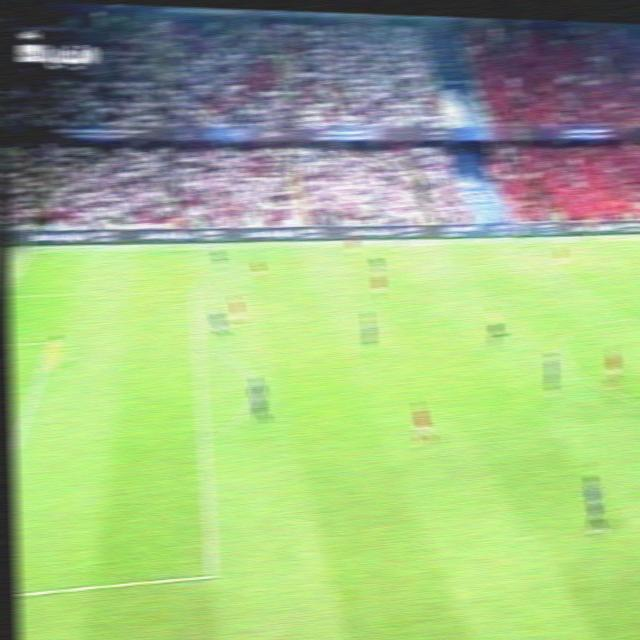bigarea_bottom_inner: (206, 565, 219, 579)
bigarea_top_inner: (189, 285, 201, 296)
bigarea_top_outter: (7, 288, 16, 304)
bottom_arc_area_intersection: (200, 431, 212, 443)
corner: (20, 247, 42, 261)
halfcircle_top: (621, 314, 633, 324)
midline_top_intersection: (503, 235, 531, 254)
top_arc_area_intersection: (194, 340, 206, 351)
